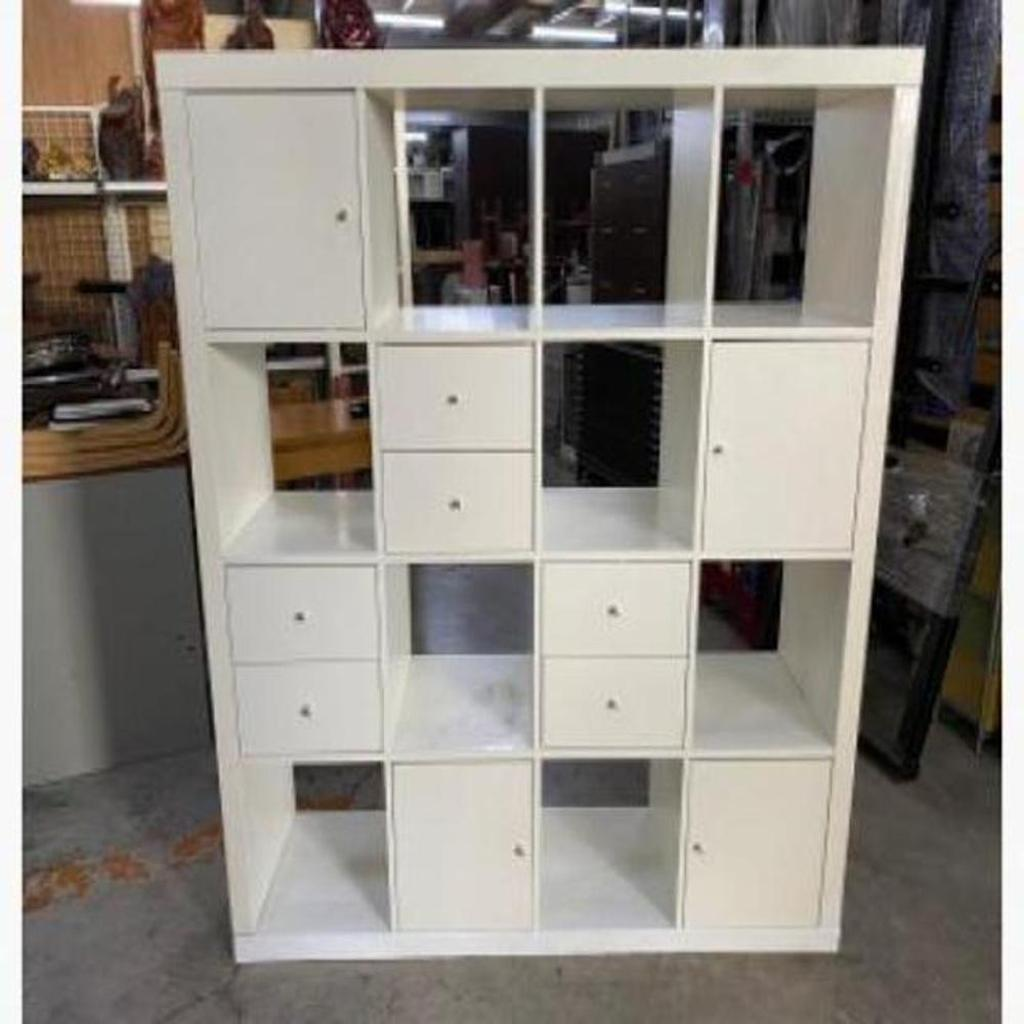lamp: (150, 44, 923, 970)
